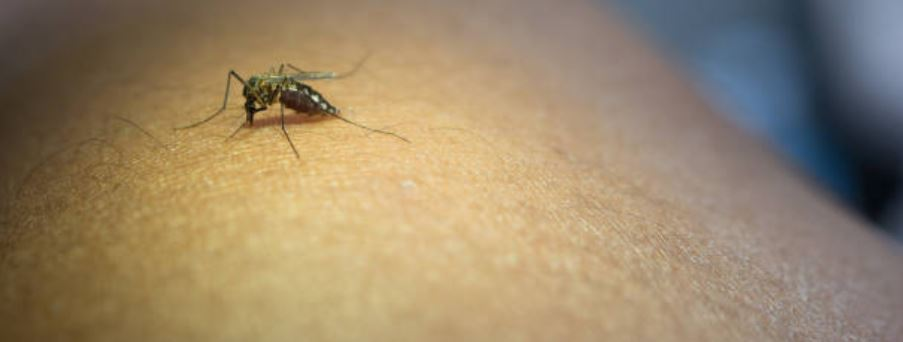dengue_mosquito: (180, 62, 413, 159)
